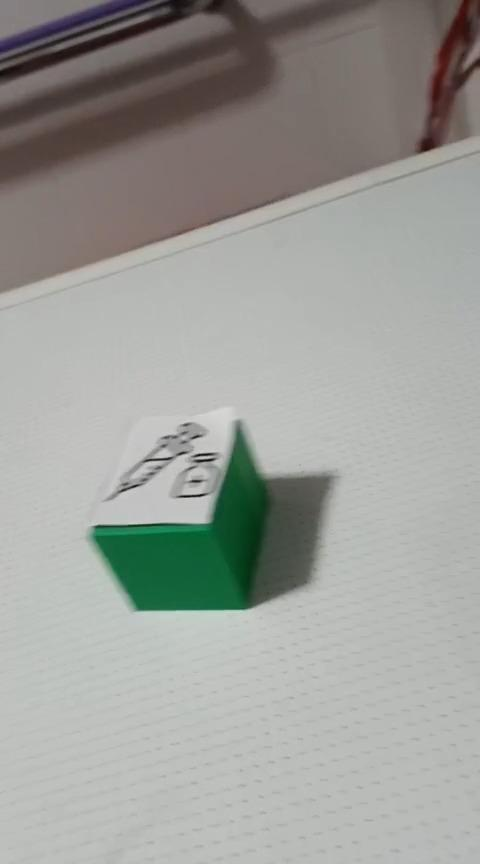antiseptic cream: (86, 404, 270, 612)
